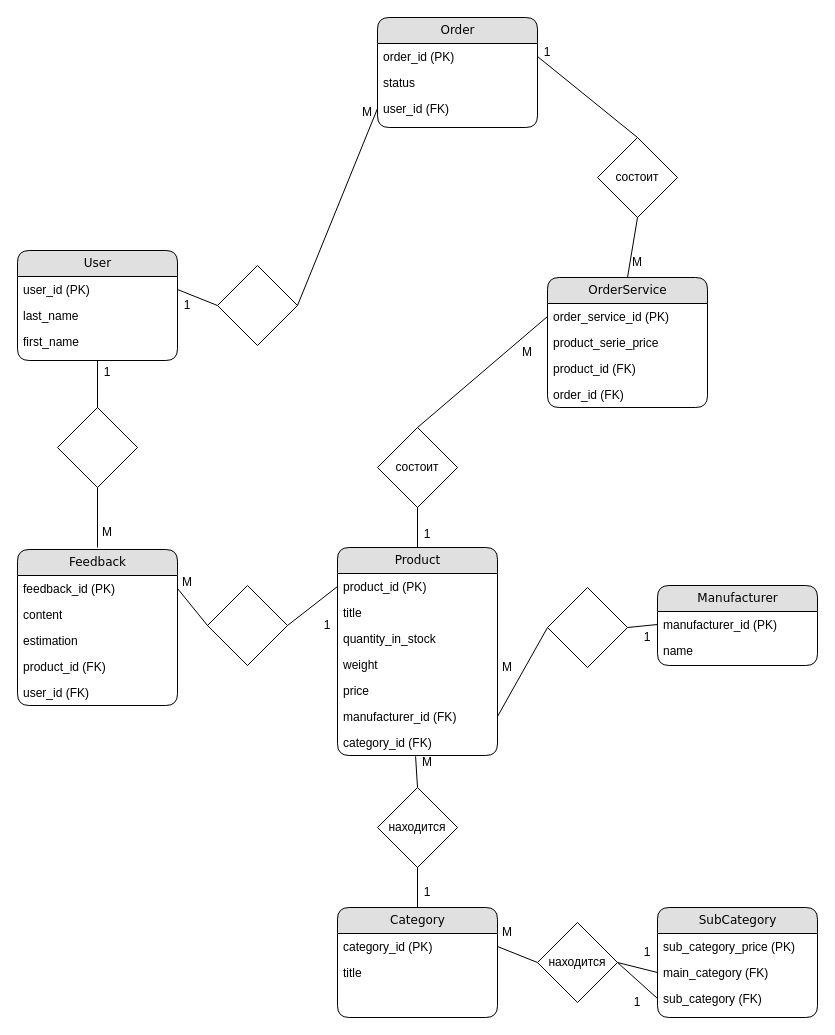
Image size: 835x1035. Some labels were removed from this diagram. Here are the shapes that lost their labels. From the top down, the centre of each, then its label:
At (x=257, y=305): "сделал".
At (x=97, y=447): "оставляет".
At (x=247, y=625): "оценивает".
At (x=587, y=627): "производит".
